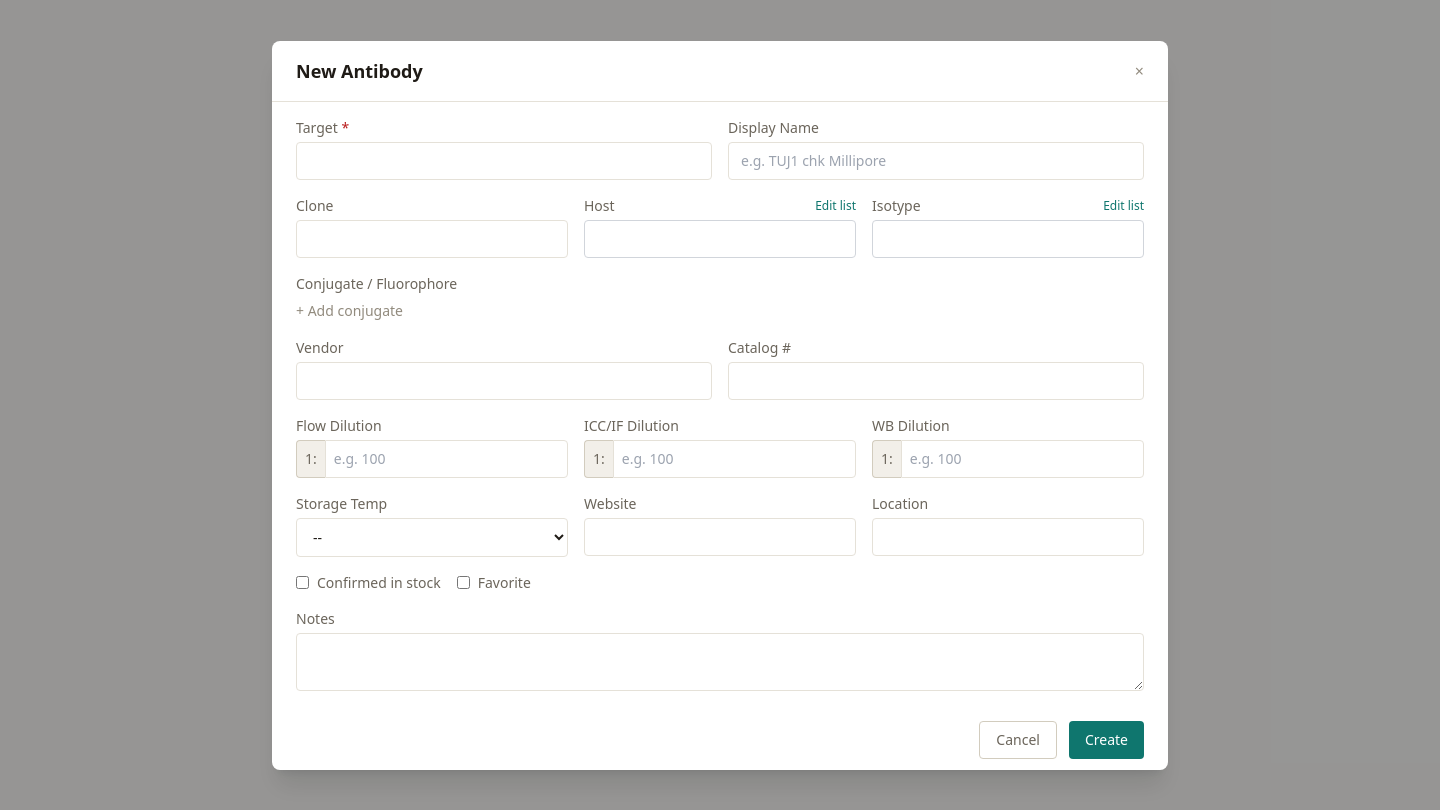
Test: AntibodyForm › submit with empty target shows validation error
The image size is (1440, 810).
Click the button "Create".
click(1106, 740)  # box [1069,720,1144,758]
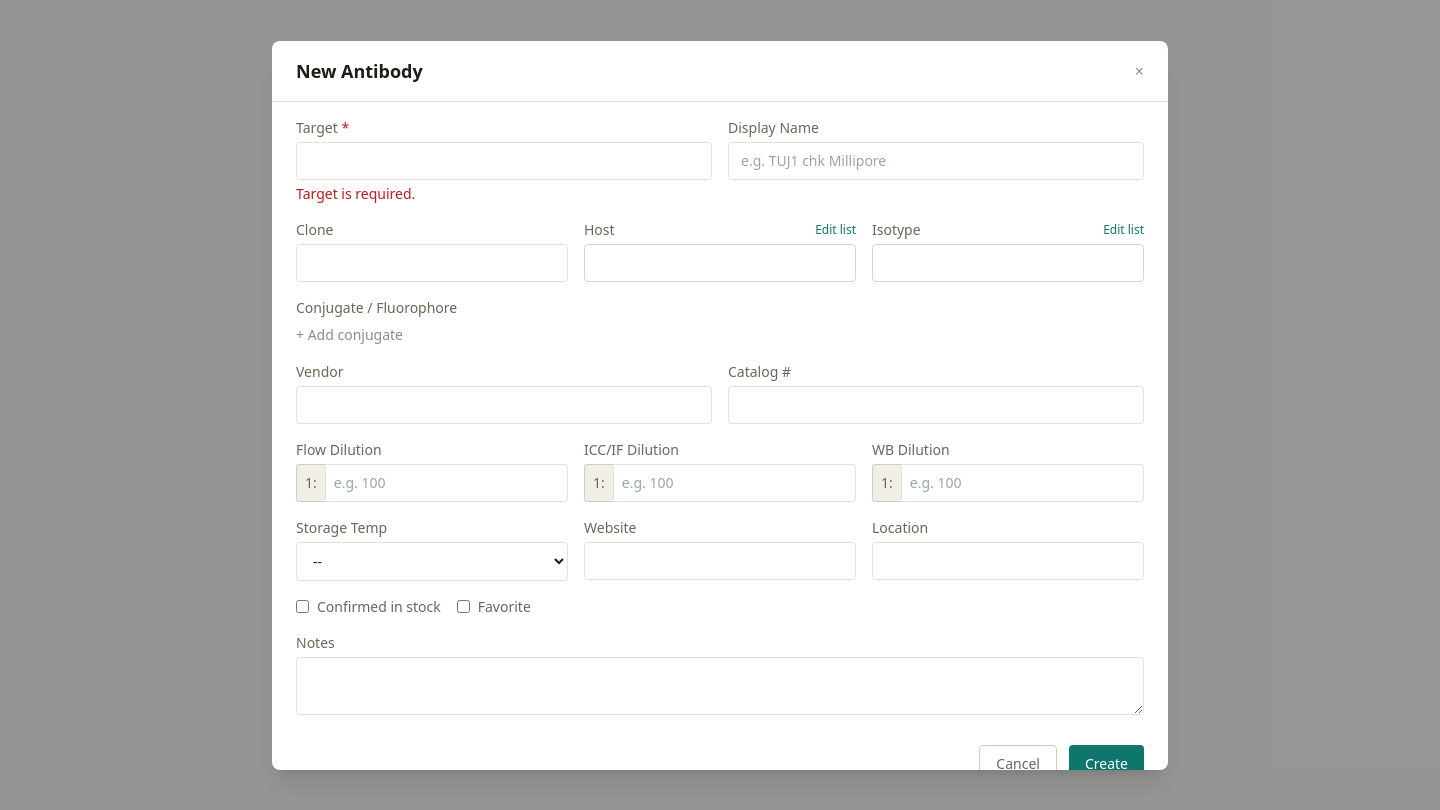
Expected: the text "Target is required." is shown, [296,184,415,202]
